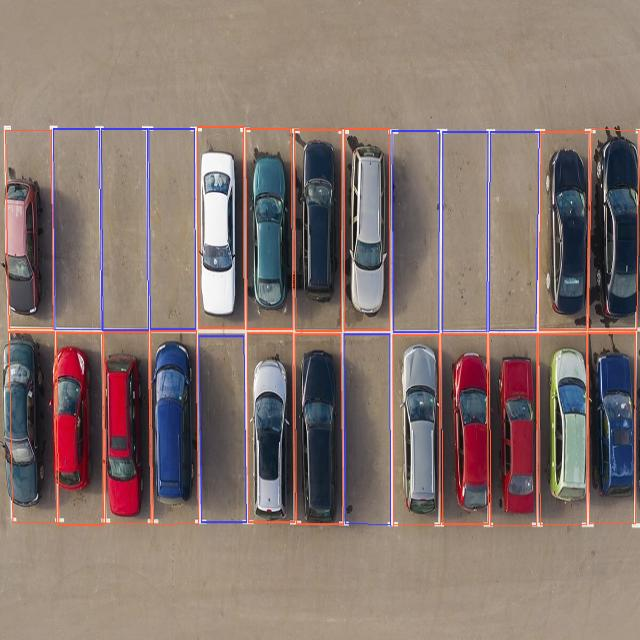space-empty: (147, 128, 198, 330), (52, 128, 102, 330), (489, 132, 539, 329), (439, 129, 487, 332), (342, 333, 392, 523), (197, 333, 247, 520), (103, 128, 149, 330), (395, 131, 441, 332)
space-occupied: (488, 333, 542, 522), (439, 334, 492, 522), (194, 124, 244, 323), (0, 329, 53, 516), (537, 138, 590, 322), (244, 128, 293, 325), (540, 332, 591, 521), (392, 334, 442, 522), (344, 132, 392, 326), (589, 332, 639, 518), (294, 131, 342, 324), (6, 130, 51, 332), (150, 329, 198, 516), (53, 330, 101, 517), (297, 333, 344, 520), (100, 331, 148, 514), (592, 141, 640, 320), (245, 331, 291, 516)
